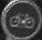bike lane: (1, 2, 38, 35)
